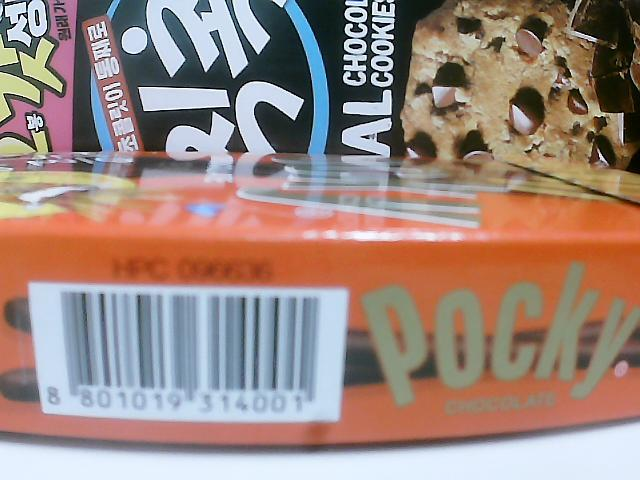redpocky-1800-2025-7-23: (46, 289, 332, 414)
